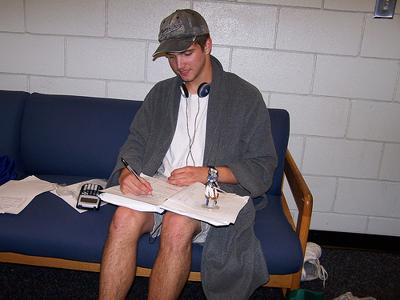person: (98, 10, 275, 300)
